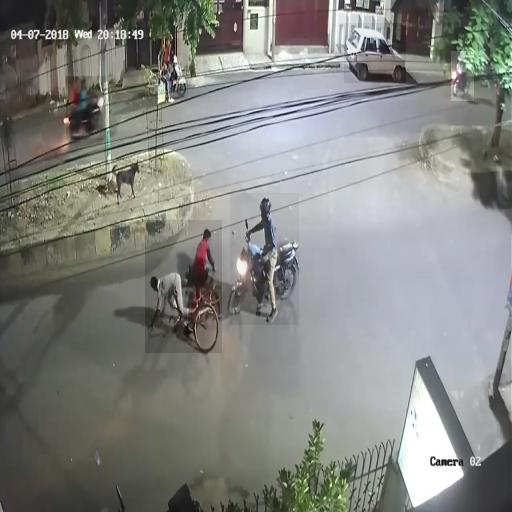小汽车: (344, 23, 406, 83)
自行车: (145, 220, 222, 353), (230, 193, 299, 325), (66, 76, 106, 140), (155, 38, 188, 99), (451, 52, 474, 102)
